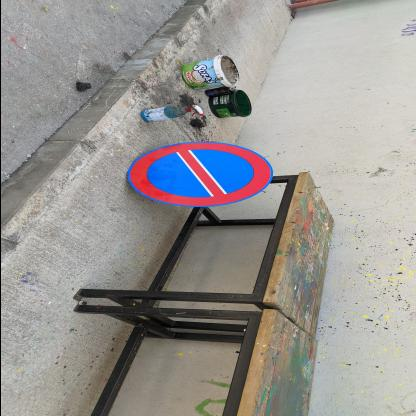No Waiting: (129, 143, 275, 208)
